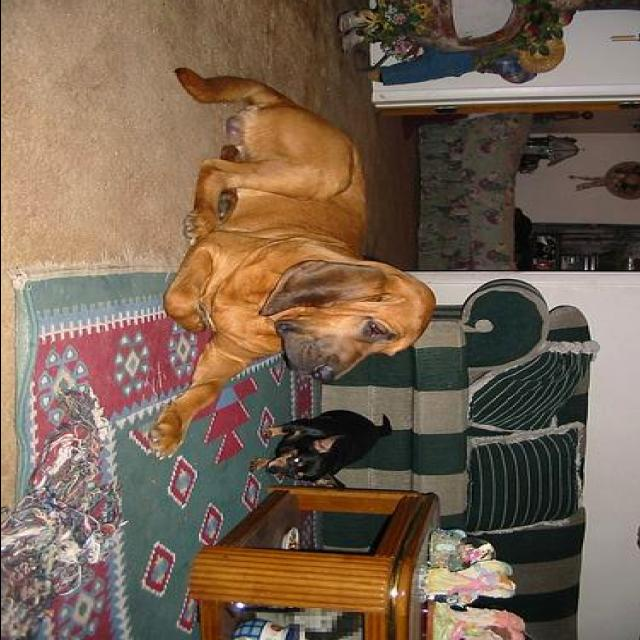bloodhound: (146, 67, 438, 460)
